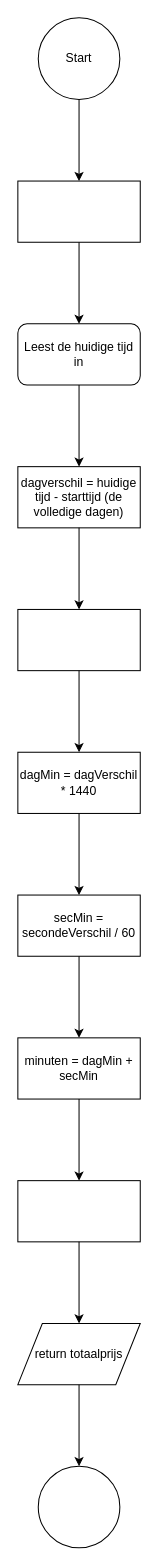
The diagram is 158 pixels wide and 1566 high, and some of its shapes have lost their labels. The shapes that lost their labels are listed below. From the top down, each one's centre as x and y in pixels, then its label:
the point at 78,211: Leest de starttijd in
the point at 78,639: secondeverschil = huidige tijd - starttijd (de volledige seconden)
the point at 78,1211: totaalprijs = minuten * 0.00833333333
the point at 78,1506: End
